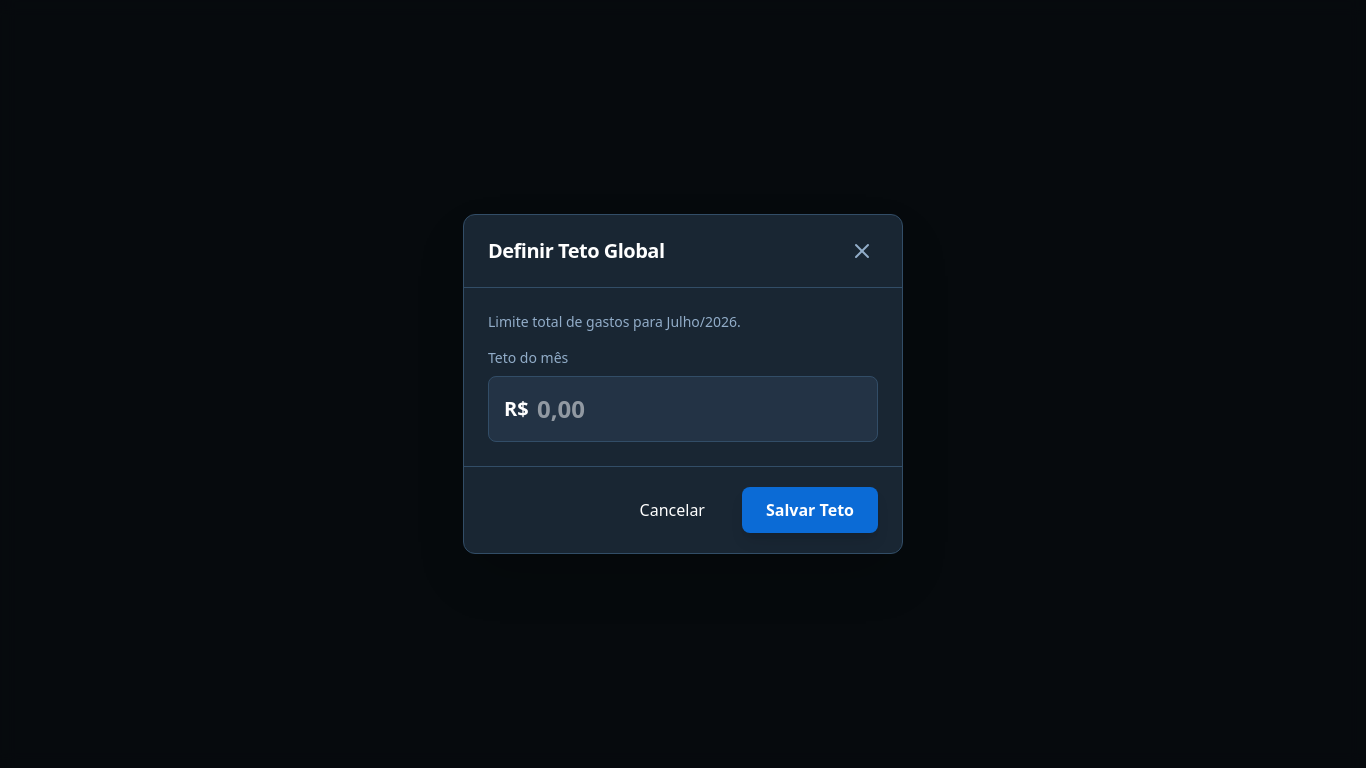
Test: GlobalBudgetModal › valida teto vazio/zero e não envia
Click the button "Salvar Teto" at (810, 510), box [742,487,878,533]
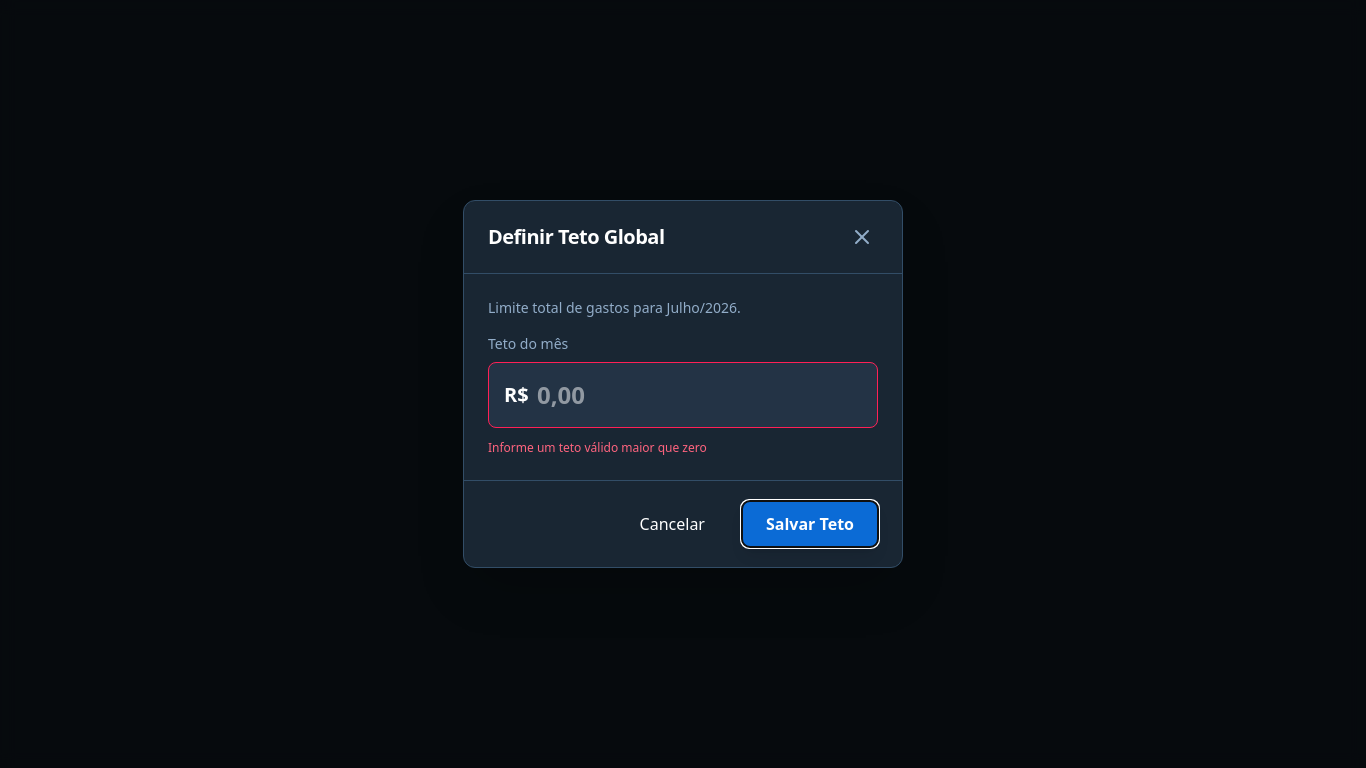
Result: the text "Informe um teto válido maior que zero" is shown at [488,439,707,456]
Type "0" into the field labelled "Teto do mês" at (683, 395), box [488,362,878,428]
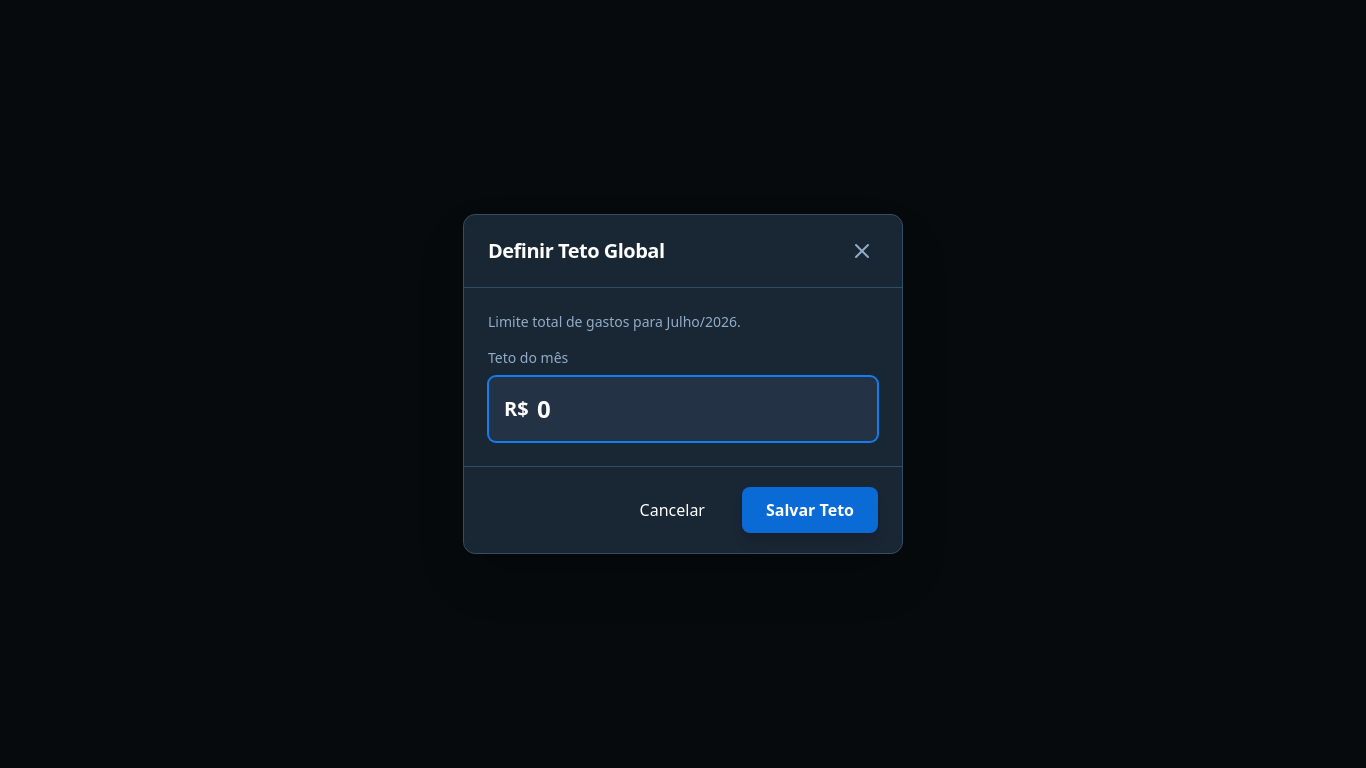
Click the button "Salvar Teto" at (810, 510), box [742,487,878,533]
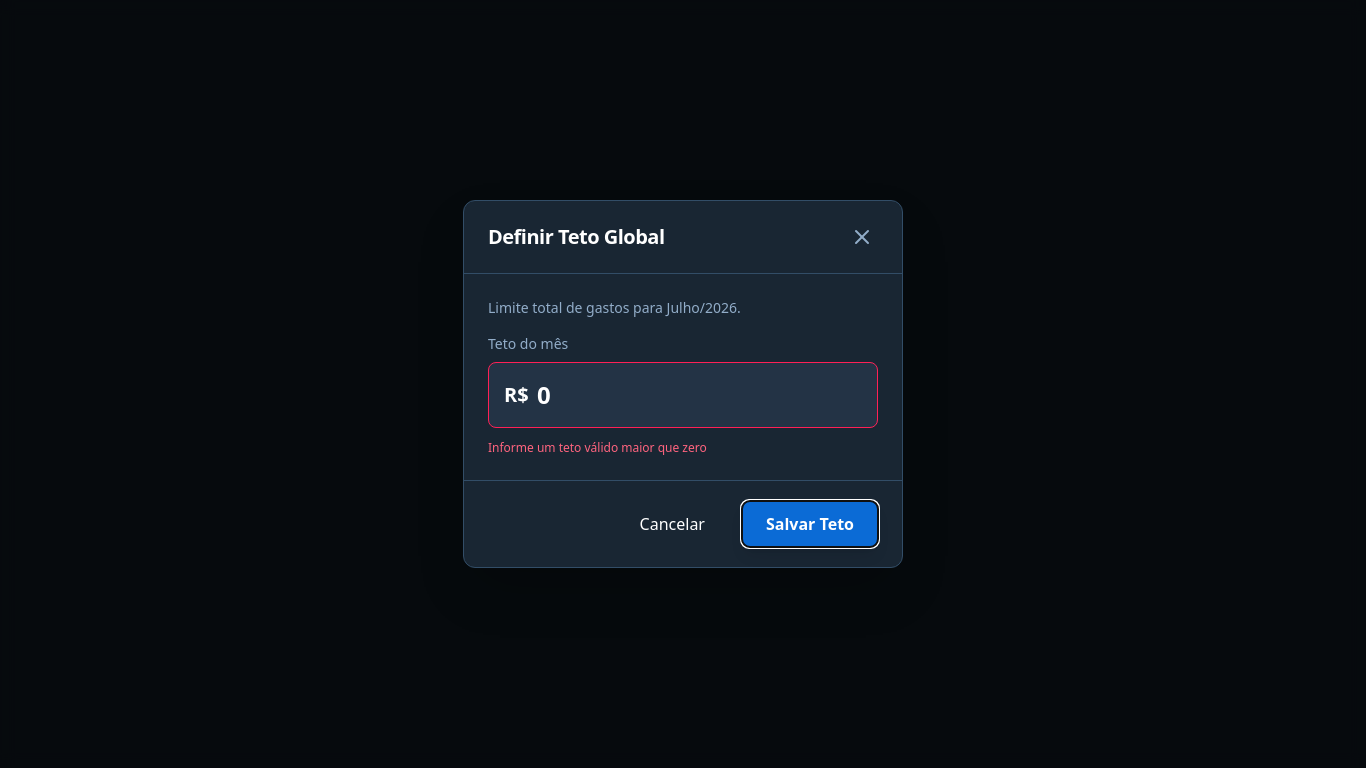
Result: the text "Informe um teto válido maior que zero" is shown at [488,439,707,456]
